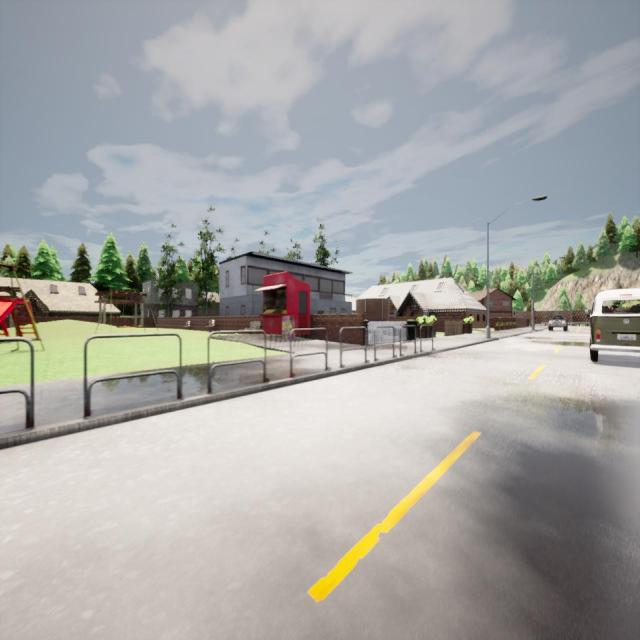Vehicle: (584, 288, 640, 361), (548, 314, 568, 332)
